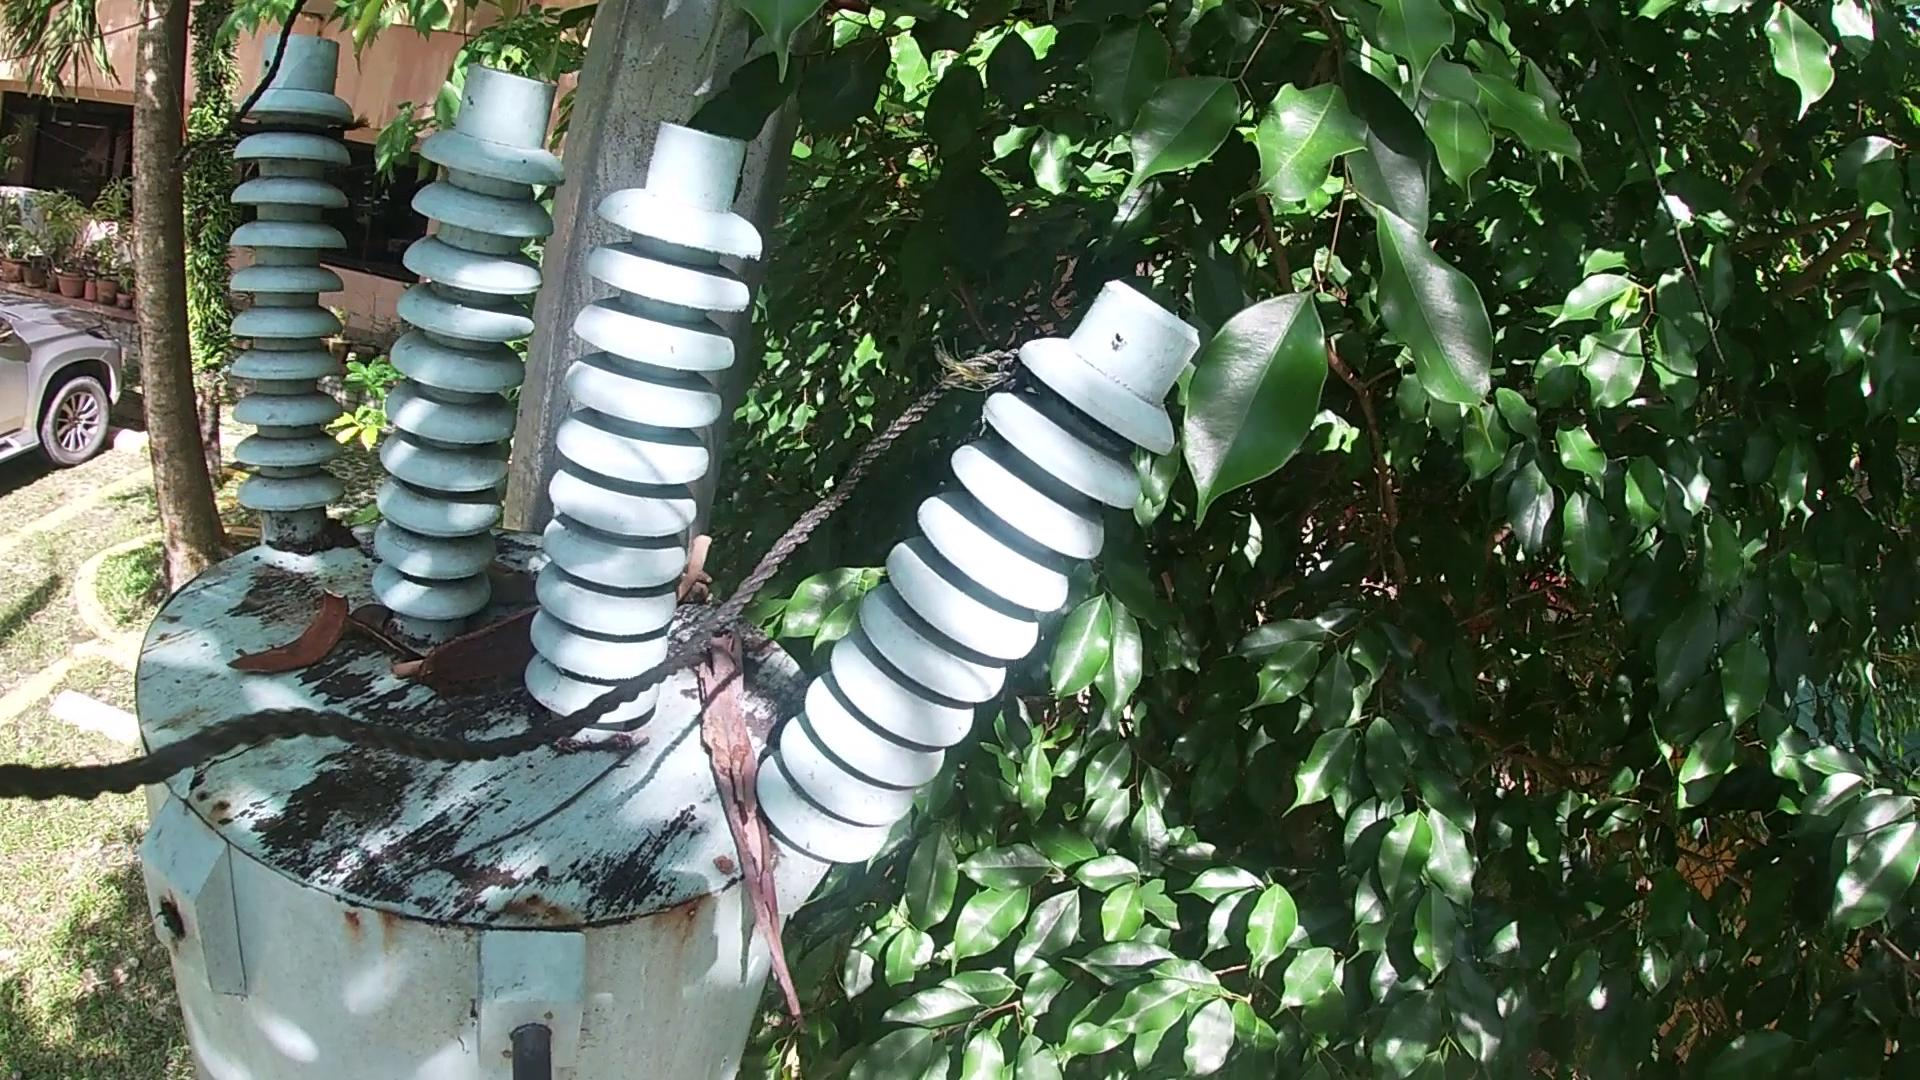leaf: (345, 607, 421, 659)
mahogany fruit: (223, 575, 348, 674), (415, 617, 534, 709)
tree branch: (702, 615, 814, 1027), (386, 725, 674, 877), (678, 533, 716, 622), (485, 572, 539, 613), (386, 665, 415, 684)
